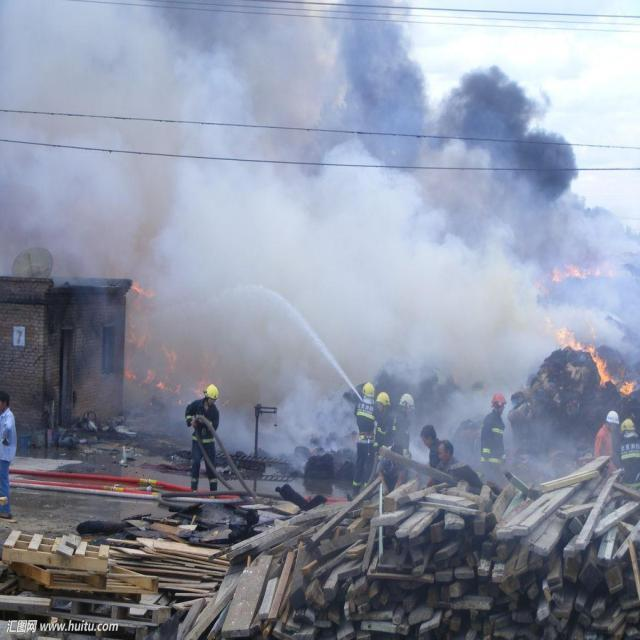Fire: (524, 232, 640, 408), (119, 270, 225, 406)
Smoke: (1, 4, 547, 343)
